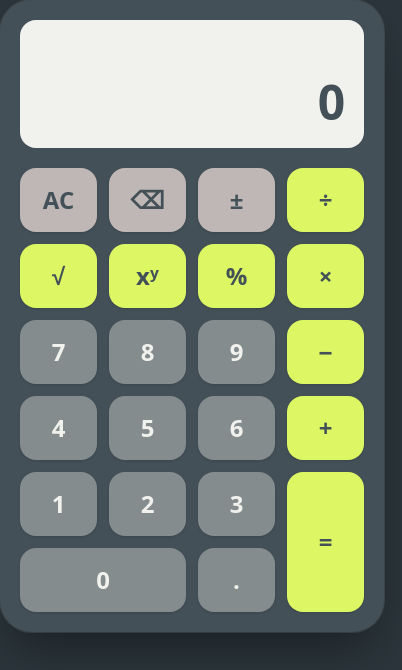
Test: Calculator › tells the user when the backend is down
Click the button "2".
click(148, 504)  # box [109,472,186,536]
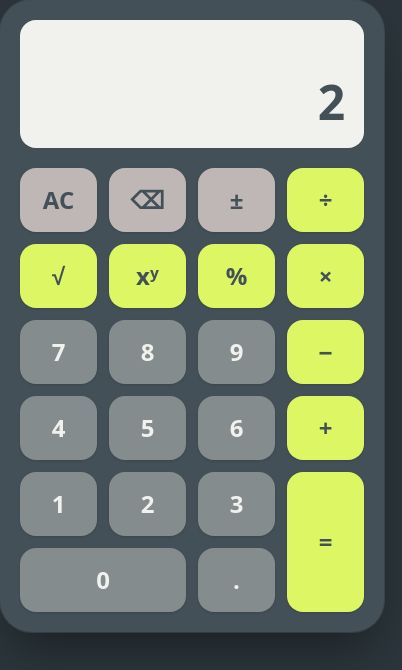
Click the button named "Add".
click(326, 428)  # box [287,396,364,460]
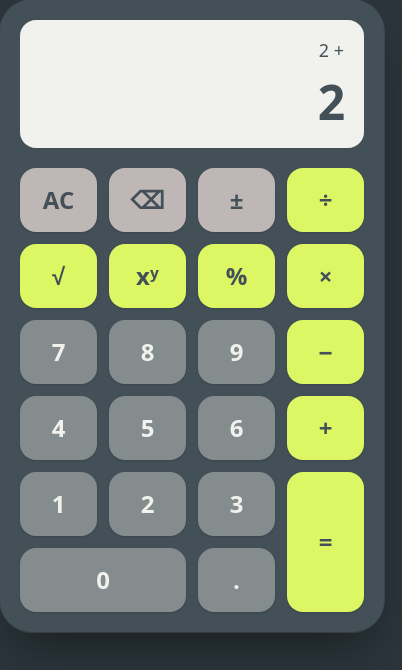
Click the button "3".
click(236, 504)  # box [198,472,275,536]
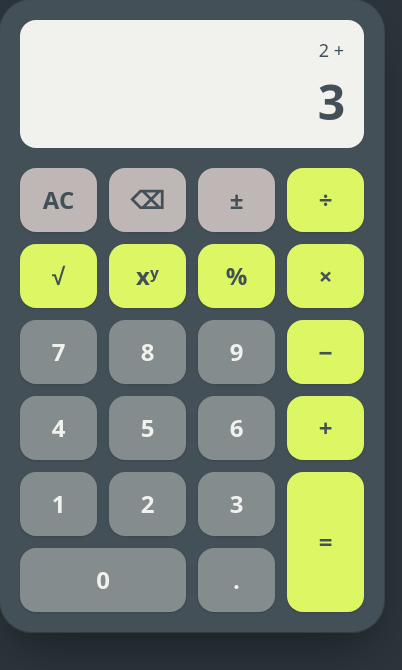
Click the button named "Equals".
click(326, 542)  # box [287,472,364,612]
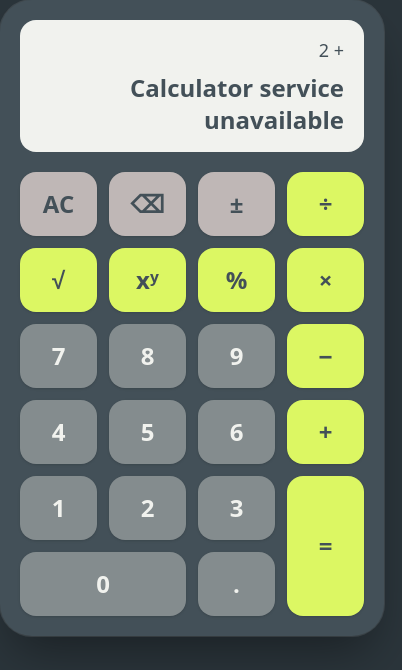
Expected: the message reads "Calculator service unavailable", [130,71,344,136]
